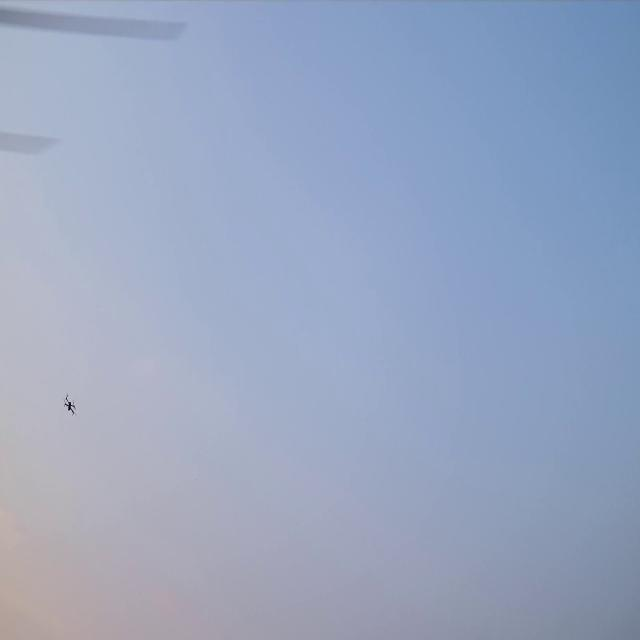UAV: (64, 396, 74, 414)
